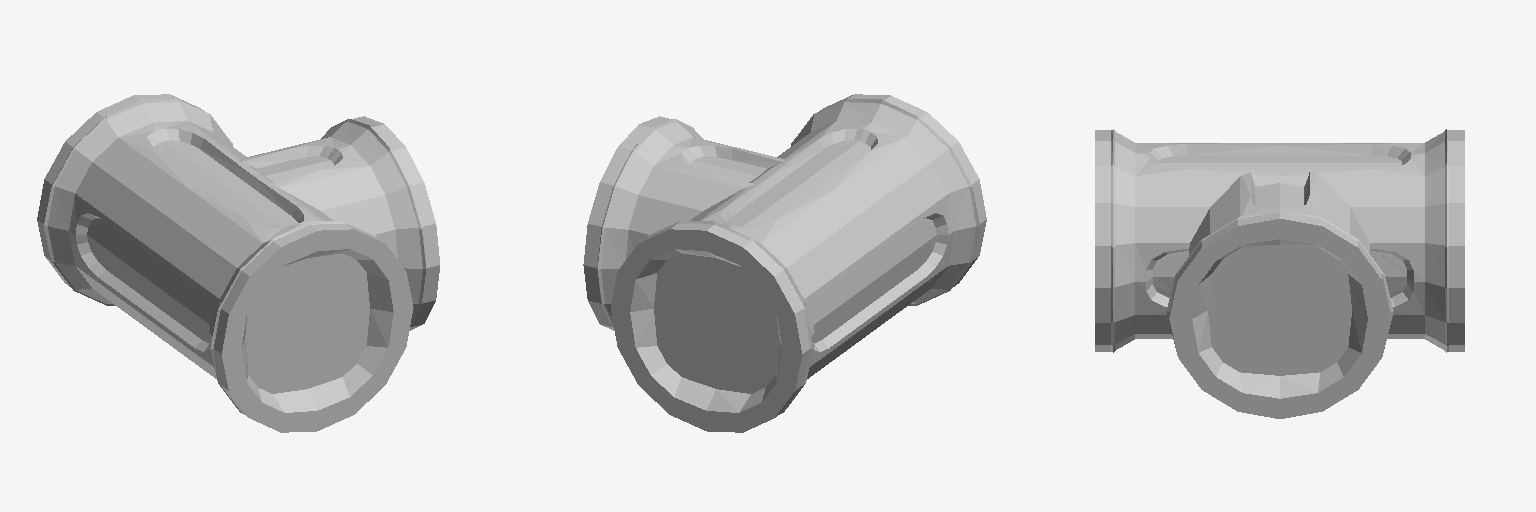
File: Pipe_3wayflat.obj
3 renders of one model, left to right at view 1: azimuth 30°, elevation 25°; view 2: azimuth 150°, elevation 25°; view 3: azimuth 270°, elevation 25°, orthographic.
Visible parts, largest first — view 1: Cylinder.002; view 2: Cylinder.002; view 3: Cylinder.002.
Boxes of the visible parts, box(x1,y1,x2,y2) form: Cylinder.002: box(37, 94, 439, 432); Cylinder.002: box(583, 94, 986, 432); Cylinder.002: box(1095, 129, 1464, 418).
Bounding box in the file's own units: 0.8075 × 0.6156 × 1.